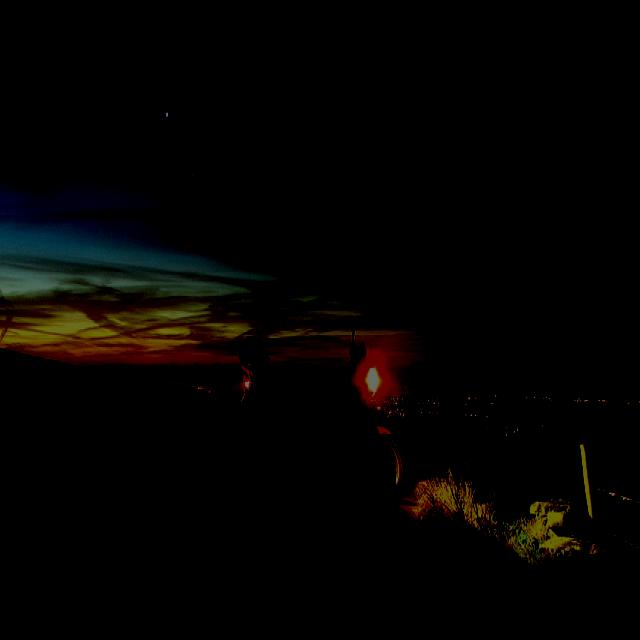Motorbike: (235, 316, 404, 508)
